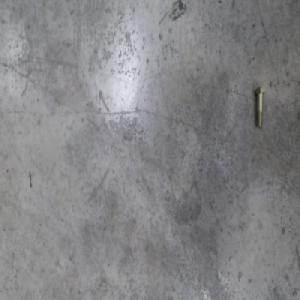Bolt: (254, 87, 265, 129)
